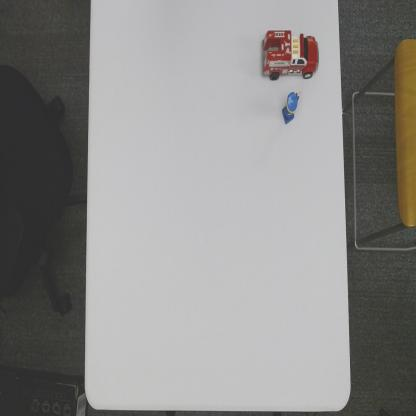Firetruck: (261, 29, 319, 82)
